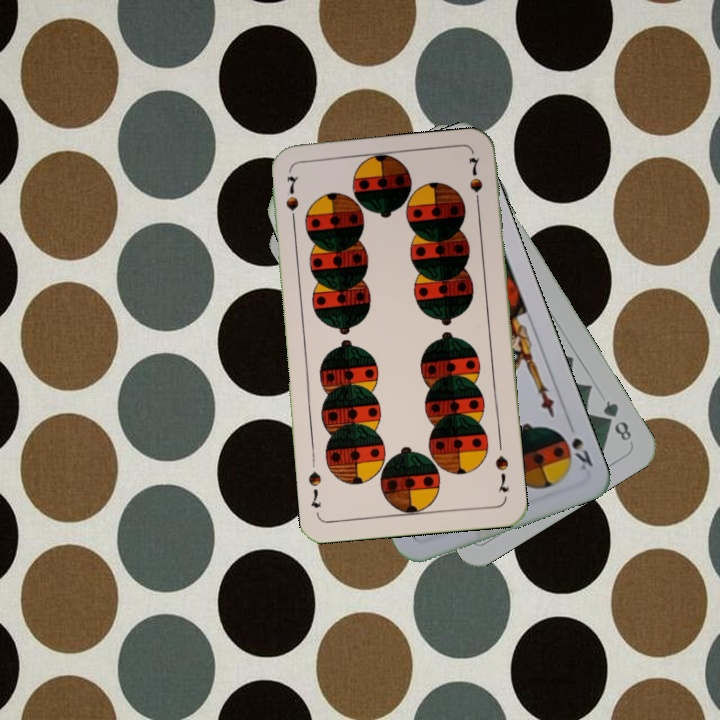G8: (598, 396, 635, 444)
S7: (281, 172, 302, 228), (491, 451, 511, 495)
SK: (567, 433, 596, 473)
